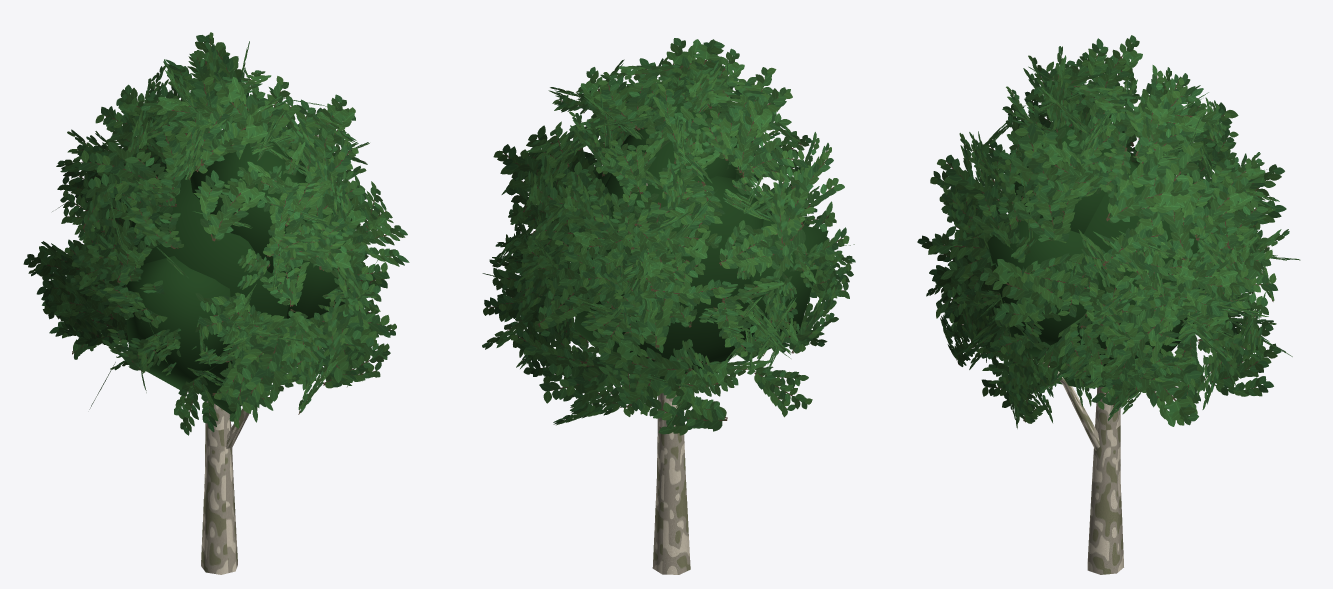
The model's file is MAGNOLIA_1.glb.
3 renders of one model, left to right at view 1: azimuth 30°, elevation 25°; view 2: azimuth 150°, elevation 25°; view 3: azimuth 270°, elevation 25°, orthographic.
Parts seen in each view (by area): view 1: Arv_MAGNOLIA_lod1; view 2: Arv_MAGNOLIA_lod1; view 3: Arv_MAGNOLIA_lod1.
Part boxes in pixels (x1,y1,x2,y2): Arv_MAGNOLIA_lod1: [23, 32, 409, 574]; Arv_MAGNOLIA_lod1: [482, 38, 855, 574]; Arv_MAGNOLIA_lod1: [917, 35, 1300, 574].
Size of the model in its own units: 7.23 by 10.81 by 7.55.
Materials: 3 (2 with a texture image).
